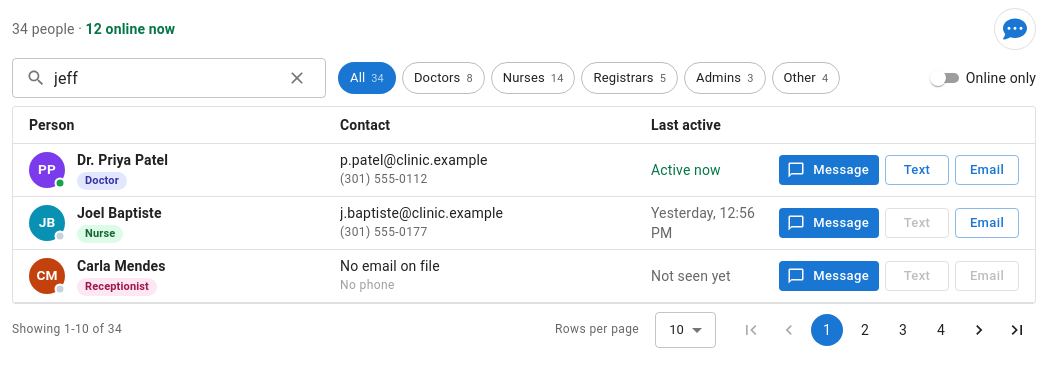
Scenario: search and filters › the clear button empties the search at once
Click the button named "Clear search": (297, 78) x1=282 y1=63 x2=312 y2=93
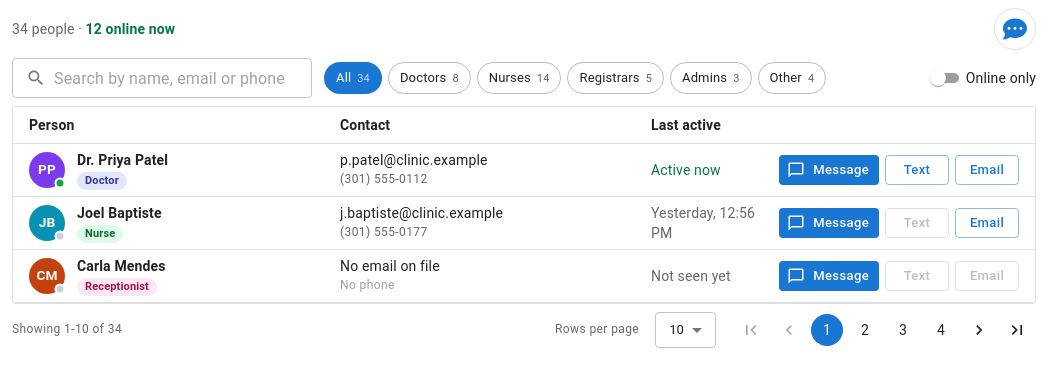
Expected: the field named "Search team" is empty, x1=54 y1=58 x2=312 y2=98
